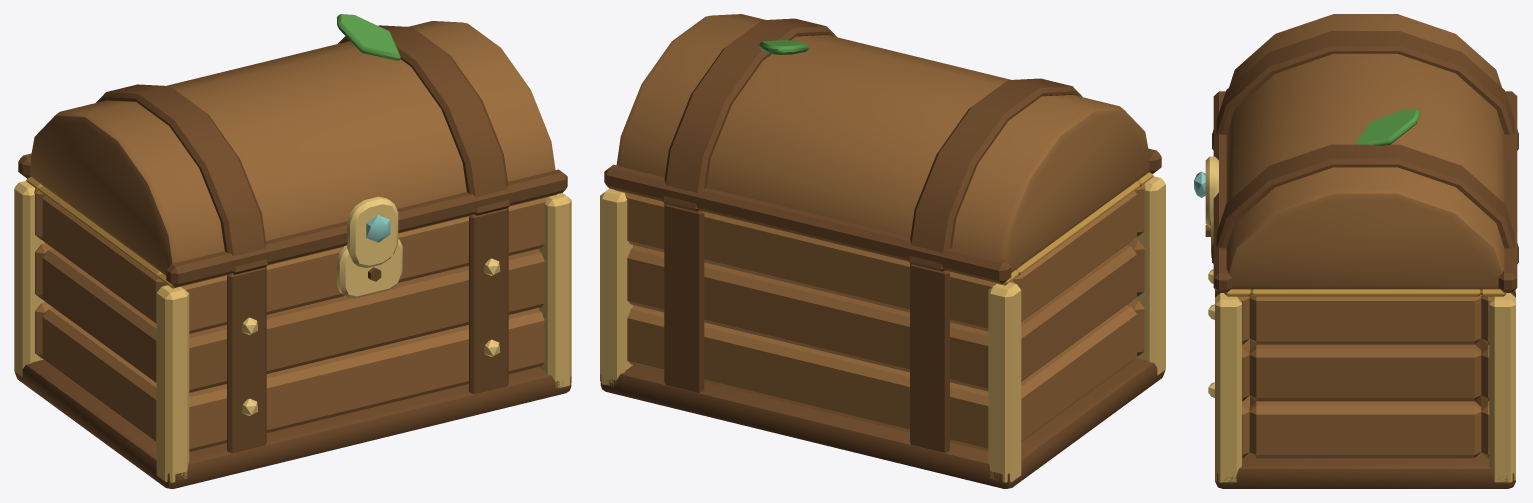
File: result_chest_preview.glb
The picture shows the model from 3 angles, left to right: view 1: azimuth 30°, elevation 25°; view 2: azimuth 150°, elevation 25°; view 3: azimuth 270°, elevation 25°; orthographic projection. The views are drawn at different scales.
Visible parts, largest first — view 1: chest_body, chest_lid; view 2: chest_body, chest_lid; view 3: chest_lid, chest_body.
Boxes of the visible parts, x1,y1,x2,y2 form: chest_body: (14, 177, 571, 488); chest_lid: (18, 14, 567, 287); chest_body: (600, 172, 1165, 488); chest_lid: (604, 14, 1161, 283); chest_lid: (1194, 14, 1518, 292); chest_body: (1205, 215, 1515, 488).
Bounding box in the file's own units: 1.68 × 1.32 × 1.21.
Materials: 1 (1 with a texture image).
